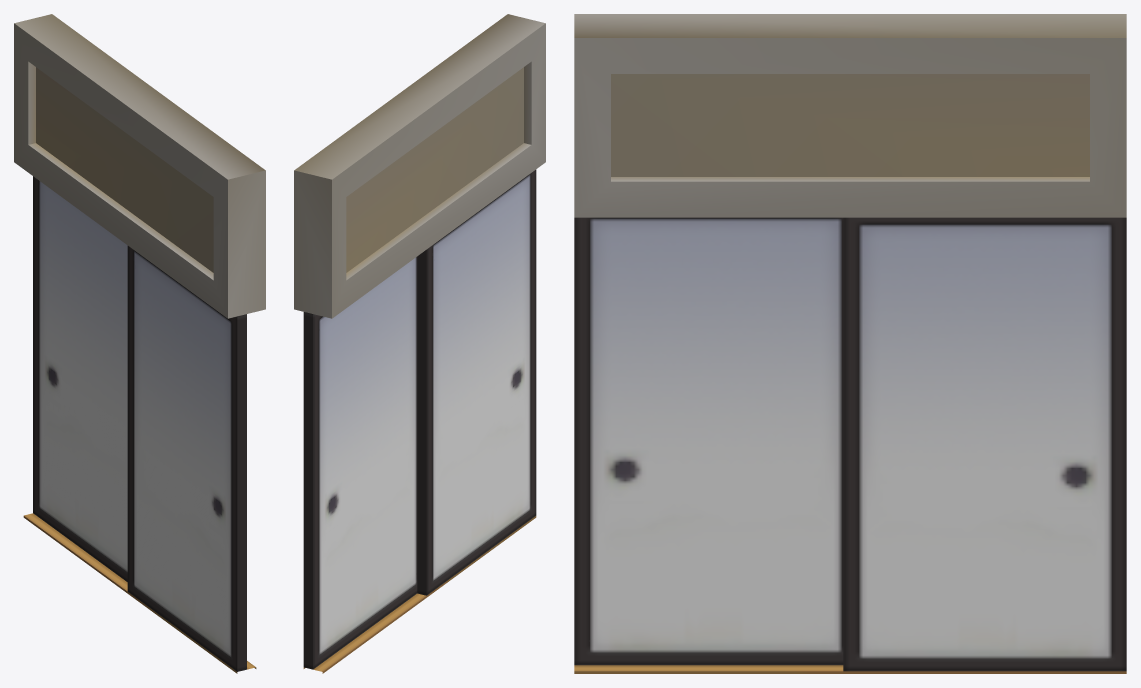
The model's file is husuma_2jyo_01.fbx.
The picture shows the model from 3 angles, left to right: view 1: azimuth 30°, elevation 25°; view 2: azimuth 150°, elevation 25°; view 3: azimuth 270°, elevation 25°; orthographic projection. The views are drawn at different scales.
Parts seen in each view (by area): view 1: ranma01, door01, door02; view 2: ranma01, door01, door02; view 3: door02, door01, ranma01.
Boxes of the visible parts, x1,y1,x2,y2 form: ranma01: [14, 14, 265, 673]; door01: [127, 246, 246, 671]; door02: [33, 176, 127, 581]; ranma01: [294, 14, 545, 673]; door01: [417, 169, 536, 595]; door02: [303, 257, 417, 669]; door02: [843, 217, 1126, 671]; door01: [574, 217, 843, 665]; ranma01: [574, 14, 1126, 673].
Bounding box in the file's own units: 40 × 500 × 390.
